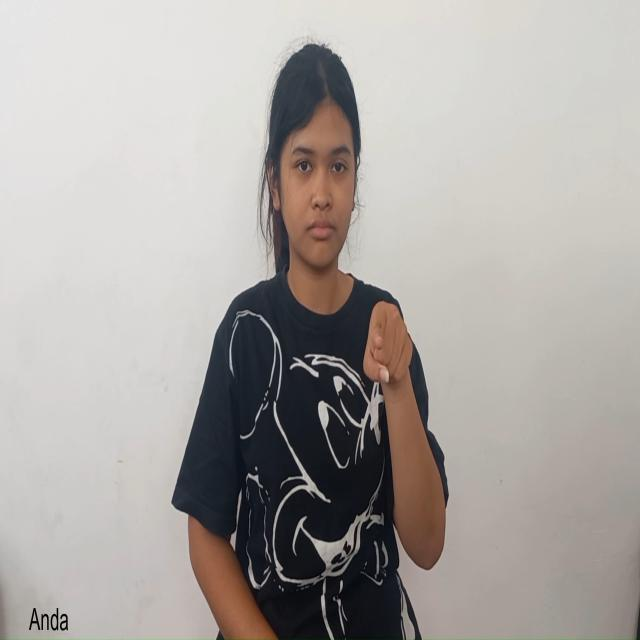Anda -BISINDO-: (323, 246, 463, 467)
